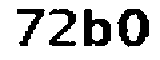0: (115, 4, 152, 49)
2: (48, 7, 78, 50)
7: (9, 5, 47, 49)
b: (80, 6, 115, 50)
